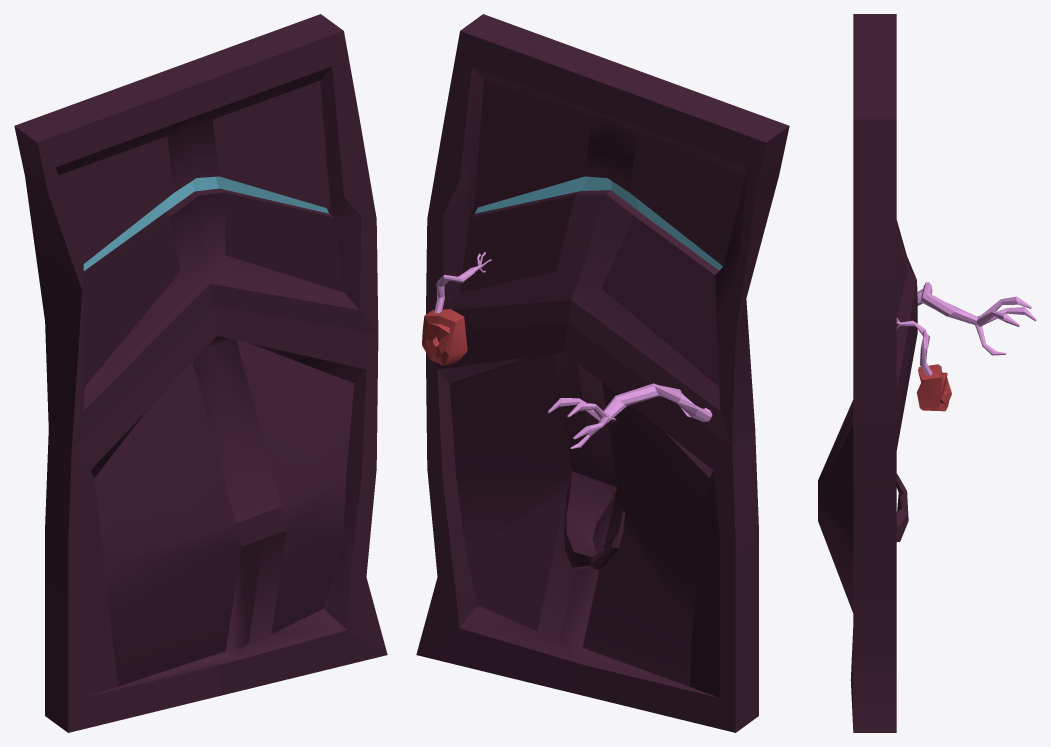
File: doorNew.fbx
3 renders of one model, left to right at view 1: azimuth 30°, elevation 25°; view 2: azimuth 150°, elevation 25°; view 3: azimuth 270°, elevation 25°, orthographic. The views are drawn at different scales.
Visible parts, largest first — view 1: pSphere2; view 2: pSphere2, pCylinder8, pCylinder6; view 3: pSphere2, pCylinder6, pCylinder8.
Part boxes in pixels (x1=…): pSphere2: x1=14, y1=14, x2=387, y2=732; pSphere2: x1=416, y1=14, x2=789, y2=732; pCylinder8: x1=422, y1=252, x2=491, y2=365; pCylinder6: x1=547, y1=383, x2=712, y2=448; pSphere2: x1=818, y1=14, x2=917, y2=732; pCylinder6: x1=917, y1=282, x2=1036, y2=355; pCylinder8: x1=896, y1=318, x2=951, y2=411.
Bounding box in the file's own units: 5.3 × 9.18 × 3.07.
